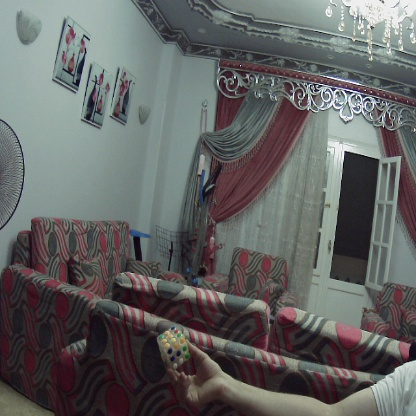Rubix Cube: (158, 326, 189, 366)
